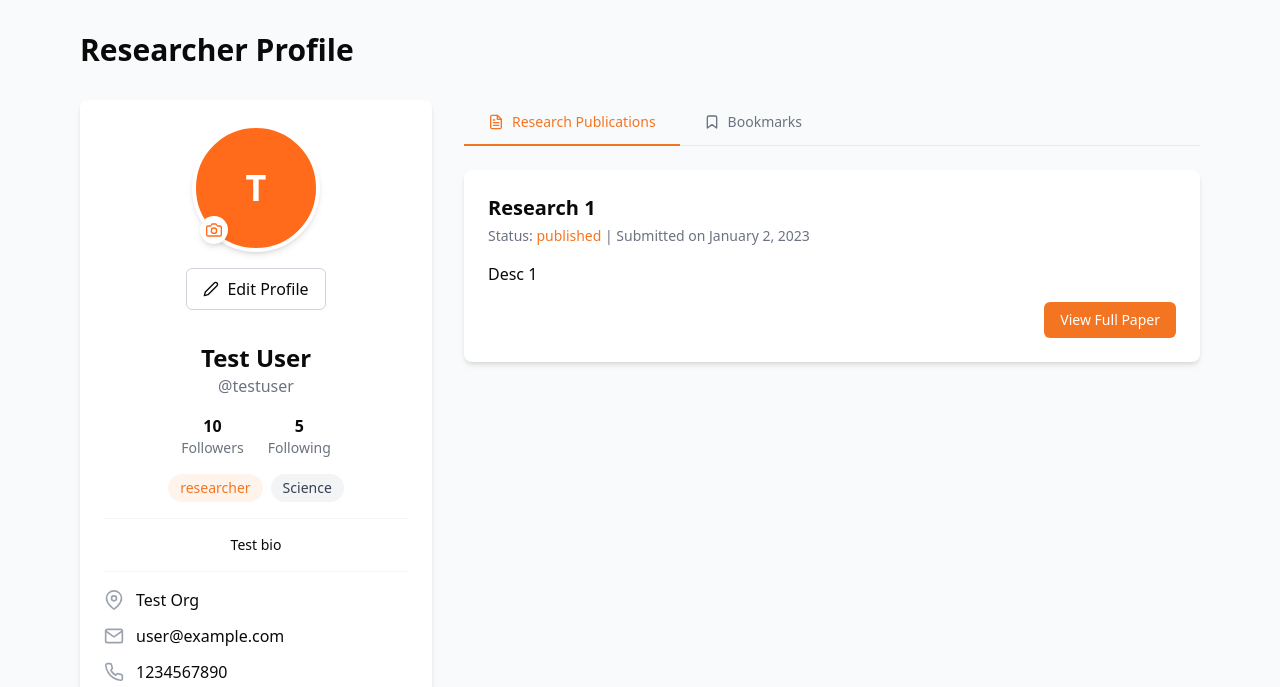
ResearcherProfilePage › toggles edit mode and updates profile
The image size is (1280, 687).
Click the button "Edit Profile" at (256, 289), box [186,268,326,310]
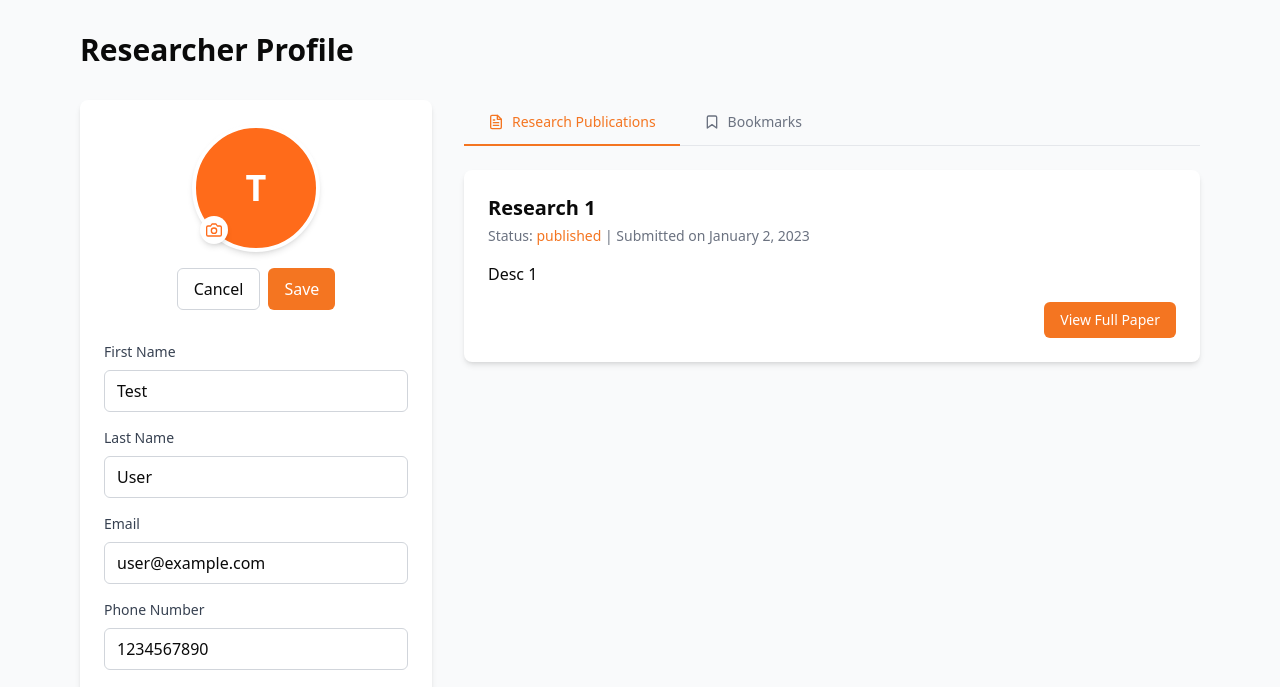
Replace the text in the field labelled "First Name" with "Updated" at (256, 391), box [104,370,408,412]
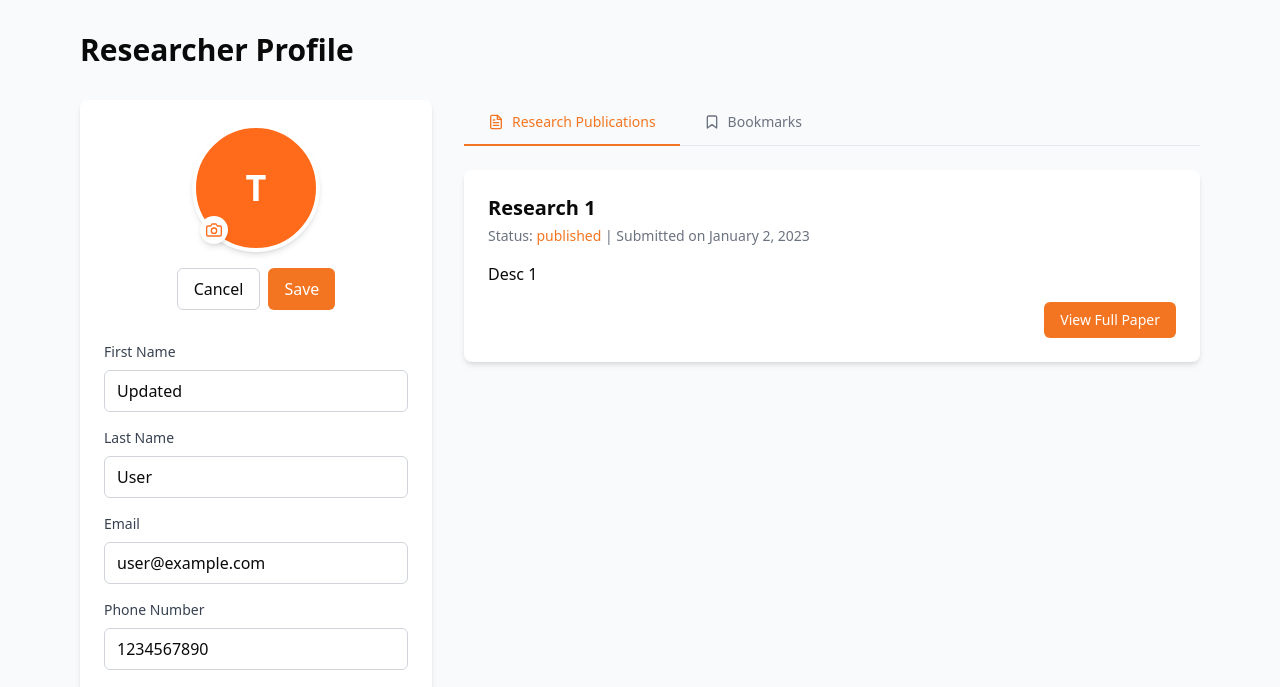
Click the button "Save" at (302, 289), box [268,268,335,310]
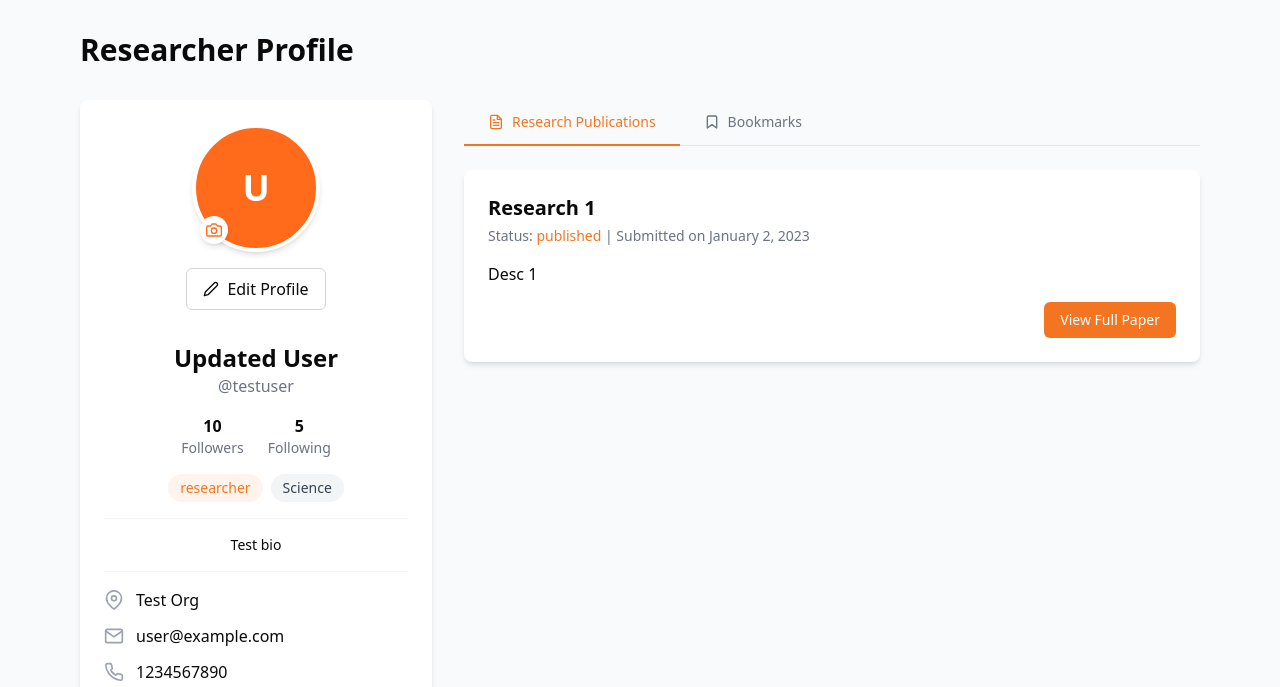
Check: the heading "Updated User" is shown, box [174,341,338,374]
